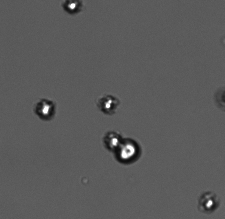Living Cell: (118, 135, 143, 166), (33, 97, 58, 121), (198, 188, 220, 213), (96, 93, 121, 114), (103, 130, 121, 150), (60, 1, 84, 15)
